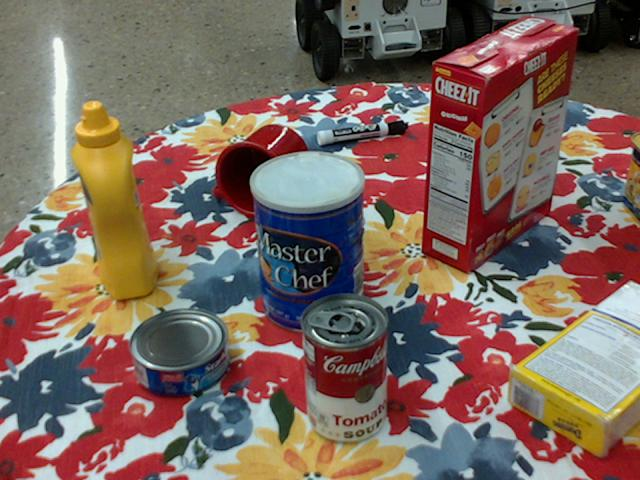cracker_box: (426, 17, 579, 273)
gelatin_box: (479, 119, 540, 170)
large_marker: (316, 118, 407, 144)
master_chef_can: (248, 150, 363, 334)
mug: (212, 123, 308, 219)
mustard_bottle: (70, 102, 158, 300)
potted_meat_can: (623, 131, 639, 221)
sugar_box: (508, 280, 639, 456)
tomato_soup_can: (299, 292, 387, 443)
tuna_fish_can: (126, 307, 226, 395)
